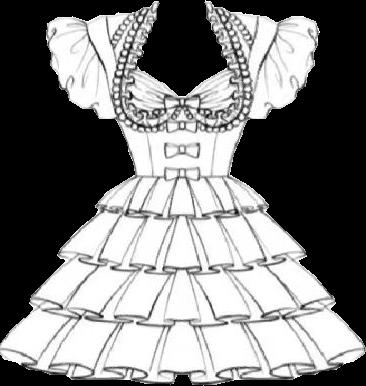Bodice: (106, 1, 258, 176)
Hemline: (0, 347, 365, 385), (28, 296, 335, 328), (56, 250, 307, 277), (94, 202, 268, 220)
Neckline: (119, 7, 247, 130), (134, 1, 229, 99)
Skirt: (0, 176, 365, 385)
Sleeve: (248, 15, 319, 119), (46, 15, 114, 119)
Sleeveline: (251, 21, 279, 89), (86, 22, 111, 90), (103, 14, 117, 91), (249, 16, 261, 91)
Waistline: (134, 172, 231, 179)
